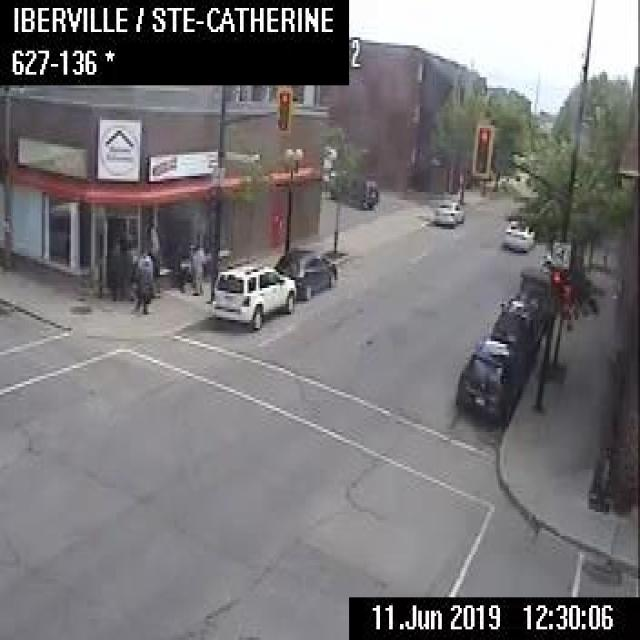pedestrian: (128, 255, 146, 316), (187, 241, 204, 295), (108, 241, 124, 298), (456, 173, 464, 200)
vehicle: (455, 333, 524, 426), (205, 261, 296, 328), (489, 292, 543, 356), (272, 248, 336, 300), (516, 262, 558, 318), (327, 171, 377, 211), (500, 217, 535, 251), (433, 201, 463, 226)
